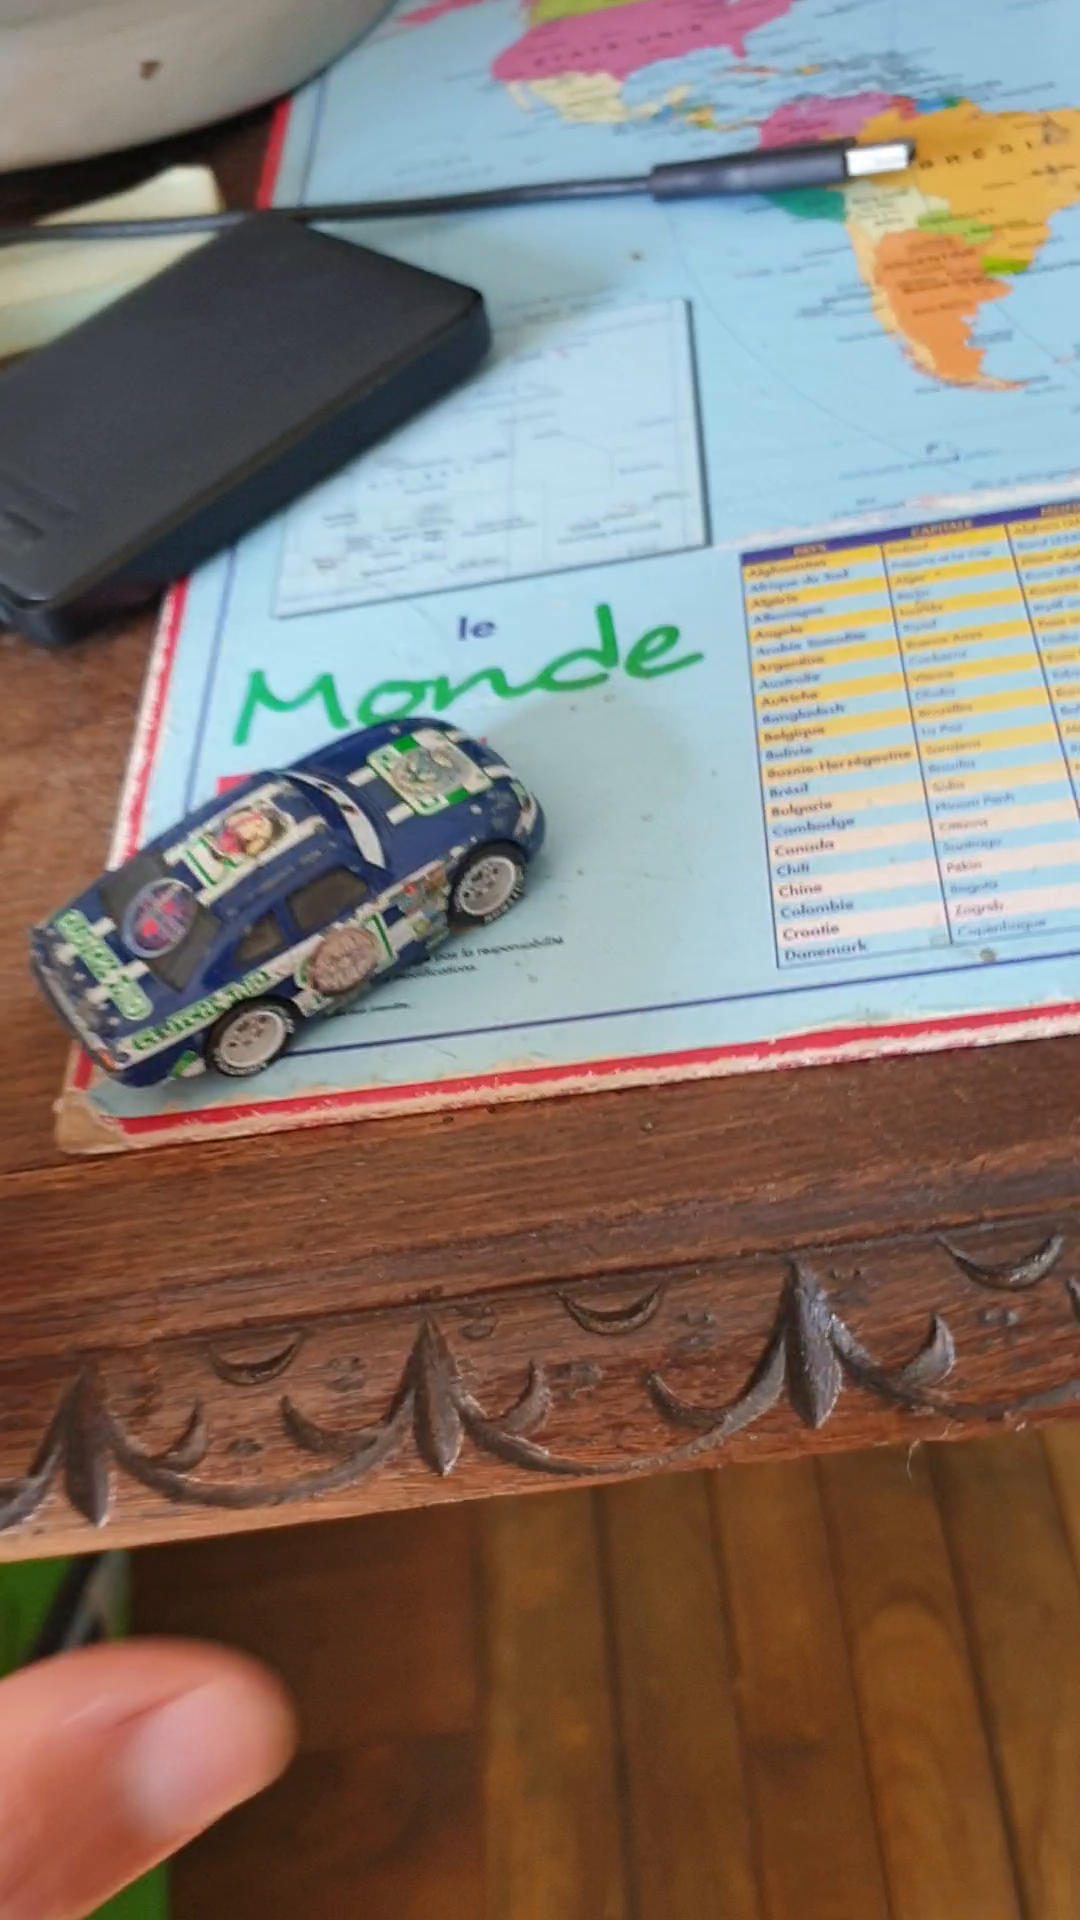cars: (30, 709, 550, 1093)
